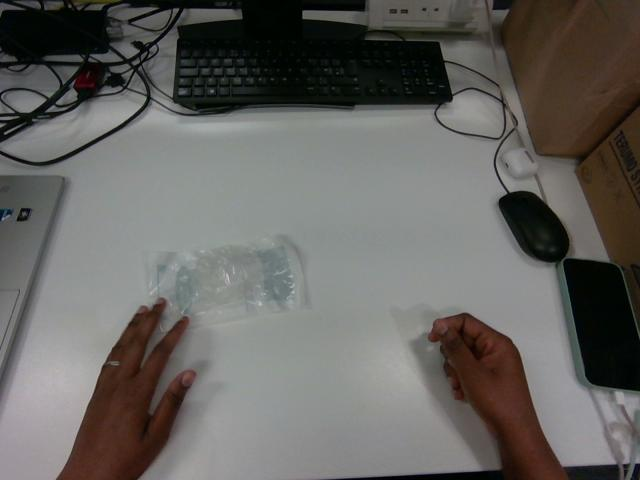gallipot: (147, 236, 304, 329)
